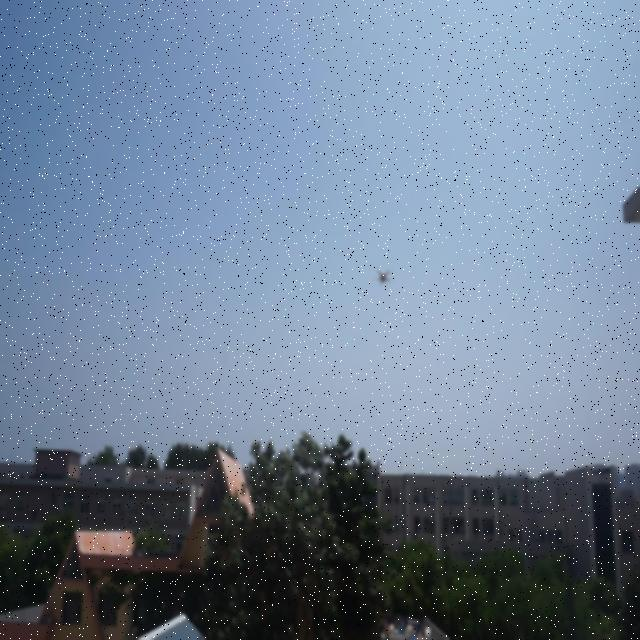UAV: (375, 267, 393, 287)
